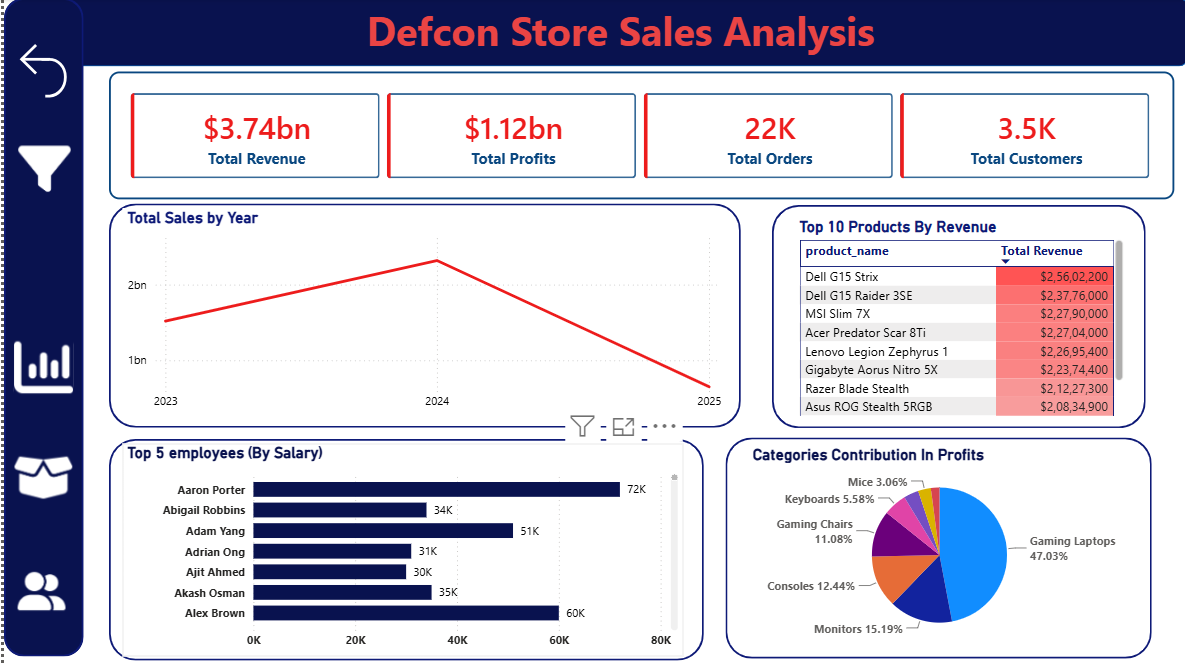

Layout of this report page (visuals, bound fields, positions):
{"tool":"powerbi","page":{"name":"Sales Analysis","canvas":[1280,720],"ordinal":1},"visuals":[{"type":"shape","box":[0,0,85.8,710.8],"z":0,"group":"g5"},{"type":"cardVisual","fields":{"Data":["Measure Tables.Total Revenue","Measure Tables.Total Profits","Measure Tables.Total Orders","Measure Tables.Total Customers"]},"box":[113.8,79.2,1150,138.2],"z":0},{"type":"shape","box":[113.7,221.1,682.1,242.1],"z":0,"group":"g4"},{"type":"shape","box":[829.5,223.2,403.5,241],"z":0,"group":"g1"},{"type":"shape","box":[778.9,473.7,460.3,238.8],"z":0,"group":"g3"},{"type":"shape","box":[112.9,476.1,642.2,239.2],"z":0,"group":"g2"},{"type":"group","id":"g1","title":"Group 1","box":[13.1,0,1264.6,464.2],"z":1000},{"type":"actionButton","box":[11.3,150.6,64.8,68],"z":1000,"group":"g5"},{"type":"lineChart","title":" Total Sales by Year","fields":{"Category":["sales.sale_date.Variation.Date Hierarchy.Year","sales.sale_date.Variation.Date Hierarchy.Quarter","sales.sale_date.Variation.Date Hierarchy.Month","sales.sale_date.Variation.Date Hierarchy.Day"],"Y":["Sum(sales.total_amount)"]},"box":[128,226.3,650.9,226.8],"z":1000,"group":"g4"},{"type":"tableEx","title":"Top 10 Products By Revenue","fields":{"Values":["products.product_name","Measure Tables.Total Revenue"]},"box":[853.4,236.5,360,219.8],"z":1000,"group":"g1"},{"type":"pieChart","title":"Categories Contribution In Profits","fields":{"Category":["categories.category_name"],"Y":["Measure Tables.Total Profits"]},"box":[802.6,481.4,412.8,217.6],"z":1000,"group":"g3"},{"type":"shape","box":[13.1,0,1264.6,73.8],"z":2000,"group":"g1"},{"type":"actionButton","box":[4.9,42.1,76.1,72.9],"z":2000,"group":"g5"},{"type":"group","id":"g2","title":"Group 2","box":[112.9,476.1,642.2,239.2],"z":2000},{"type":"group","id":"g3","title":"Group 3","box":[778.9,473.7,461.1,242.1],"z":3000},{"type":"actionButton","box":[0,482.1,85.3,70.4],"z":3000,"group":"g5"},{"type":"group","id":"g4","title":"Group 4","box":[113.7,221.1,682.1,242.1],"z":4000},{"type":"actionButton","box":[0,610.1,81.1,59.7],"z":4000,"group":"g5"},{"type":"textbox","box":[254,0,823.1,72.6],"z":5000},{"type":"barChart","title":"Top 5 employees (By Salary)","fields":{"Y":["Sum(employees.salary)"],"Category":["employees.employee_name"]},"box":[128.4,480.6,604.6,230.3],"z":6000},{"type":"group","id":"g5","title":"Ribbon","box":[0,0,85.8,710.8],"z":7000},{"type":"actionButton","box":[0,362,85.8,72.1],"z":8000}]}

Visuals, with their boxes on the page's 1280x720 design canvas (x1, y1, x2, y2). These are canvas units, not pixel positions in the 1185x663 screenshot, which may show the page scaled, cropped or inside an application window:
shape: [0, 0, 86, 711]
cardVisual - Measure Tables.Total Revenue x Measure Tables.Total Profits: [114, 79, 1264, 217]
shape: [114, 221, 796, 463]
shape: [830, 223, 1233, 464]
shape: [779, 474, 1239, 712]
shape: [113, 476, 755, 715]
"Group 1" group: [13, 0, 1278, 464]
actionButton: [11, 151, 76, 219]
" Total Sales by Year" lineChart: [128, 226, 779, 453]
"Top 10 Products By Revenue" tableEx: [853, 236, 1213, 456]
"Categories Contribution In Profits" pieChart: [803, 481, 1215, 699]
shape: [13, 0, 1278, 74]
actionButton: [5, 42, 81, 115]
"Group 2" group: [113, 476, 755, 715]
"Group 3" group: [779, 474, 1240, 716]
actionButton: [0, 482, 85, 552]
"Group 4" group: [114, 221, 796, 463]
actionButton: [0, 610, 81, 670]
textbox: [254, 0, 1077, 73]
"Top 5 employees (By Salary)" barChart: [128, 481, 733, 711]
"Ribbon" group: [0, 0, 86, 711]
actionButton: [0, 362, 86, 434]
